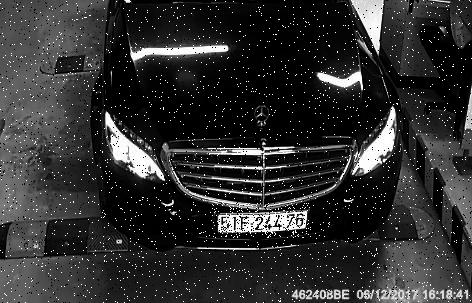License-plate: (212, 204, 310, 239)
